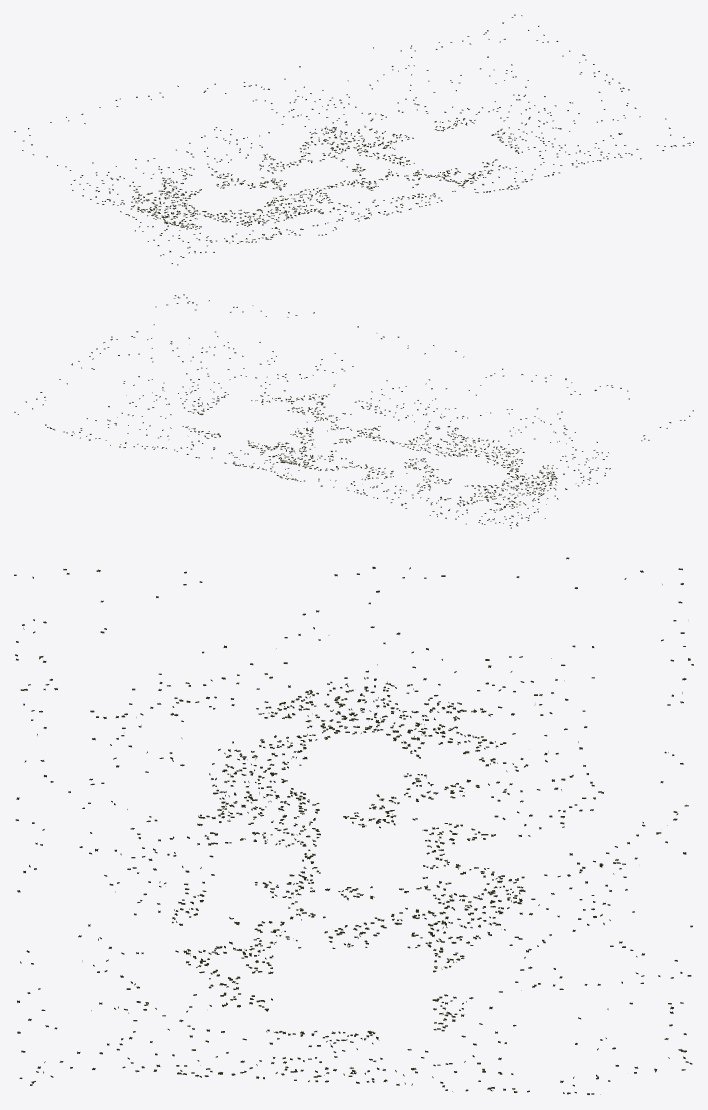
Rendered from SM_Art_Cover_L_CrystalPassage_HeatherSprig.gltf.
3 renders of one model, top to bottom at view 1: azimuth 30°, elevation 25°; view 2: azimuth 150°, elevation 25°; view 3: azimuth 270°, elevation 25°, orthographic. The views are drawn at different scales.
Parts seen in each view (by area): view 1: SM_Art_Cover_L_CrystalPassage_HeatherSprig; view 2: SM_Art_Cover_L_CrystalPassage_HeatherSprig; view 3: SM_Art_Cover_L_CrystalPassage_HeatherSprig.
Boxes of the visible parts, <box> form: SM_Art_Cover_L_CrystalPassage_HeatherSprig: <box>14,14,693,265</box>; SM_Art_Cover_L_CrystalPassage_HeatherSprig: <box>14,294,693,528</box>; SM_Art_Cover_L_CrystalPassage_HeatherSprig: <box>14,557,693,1094</box>.
Size of the model in its own units: 273 by 24.94 by 156.
Materials: 1 (1 with a texture image).
